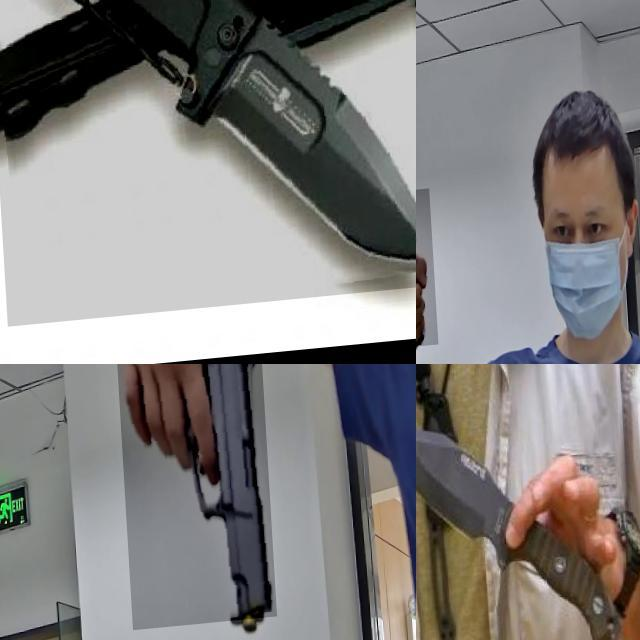-: (0, 0, 416, 328), (416, 402, 618, 640), (416, 404, 493, 640)
gun-knife-thesis - v11 Yolov5 augmented: (111, 364, 270, 636), (416, 194, 451, 355)
